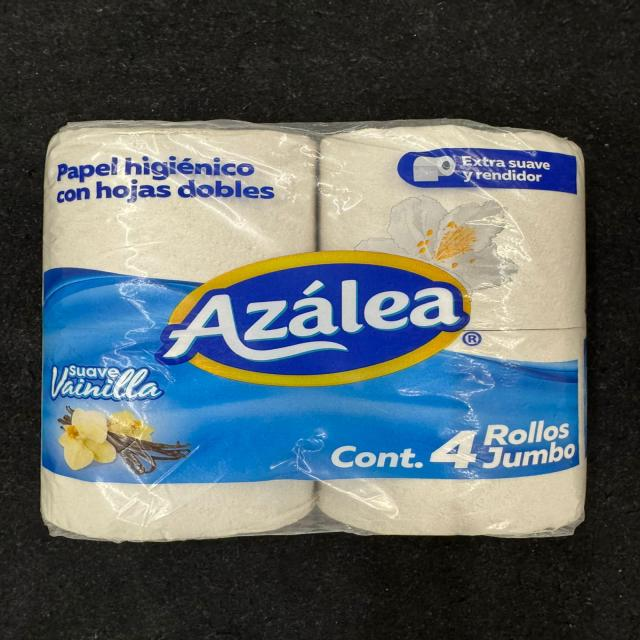PAPEL HIGIENICO AZALEA 4S CON AROMA: (36, 112, 581, 542)
